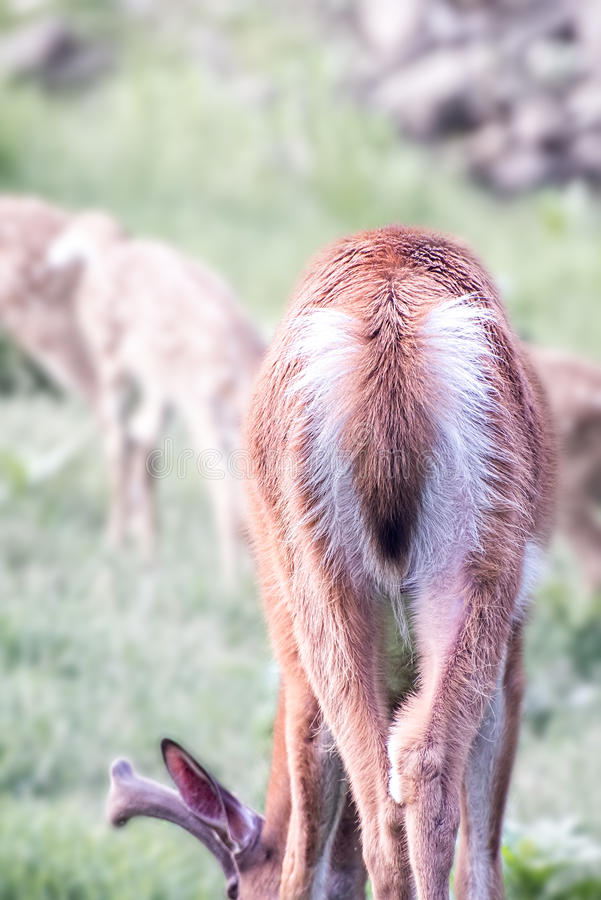Deer: (100, 215, 562, 900)
